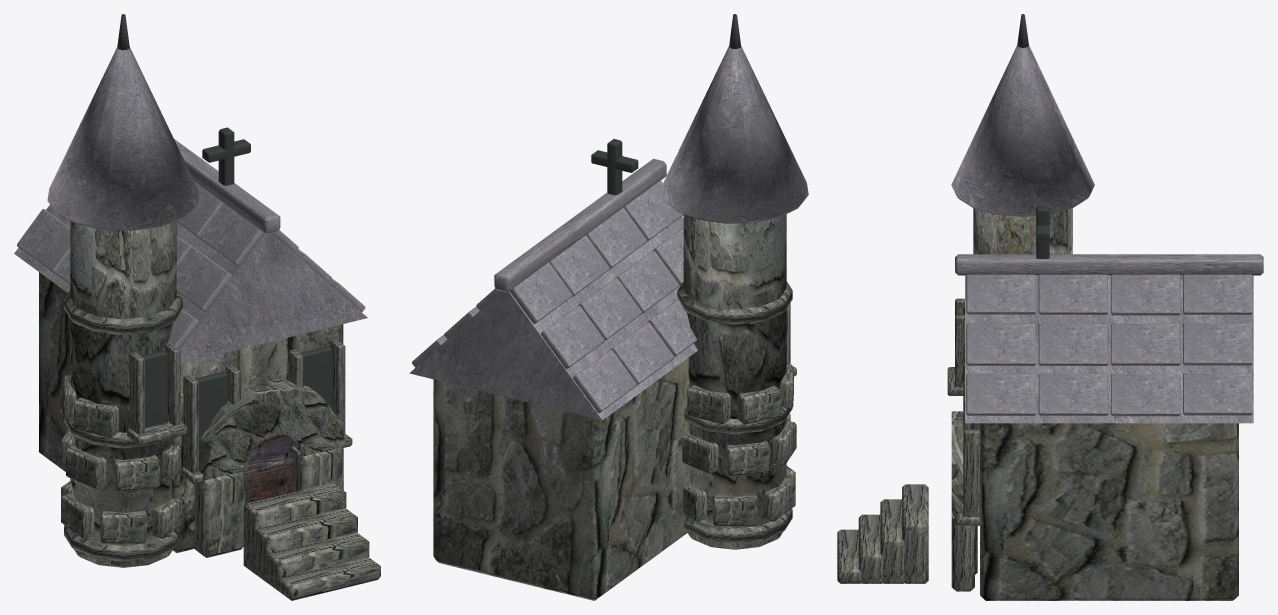
Rendered from env-site-monastery-mobile.glb.
The picture shows the model from 3 angles, left to right: view 1: azimuth 30°, elevation 25°; view 2: azimuth 150°, elevation 25°; view 3: azimuth 270°, elevation 25°; orthographic projection. The views are drawn at different scales.
Parts seen in each view (by area): view 1: site monastery · authored textured miniature; view 2: site monastery · authored textured miniature; view 3: site monastery · authored textured miniature.
Part boxes in pixels (x1,y1,x2,y2): site monastery · authored textured miniature: (14, 14, 380, 600); site monastery · authored textured miniature: (409, 14, 808, 600); site monastery · authored textured miniature: (837, 14, 1263, 600).
Size of the model in its own units: 0.9115 by 1.66 by 1.29.
4 materials, 3 textured.
